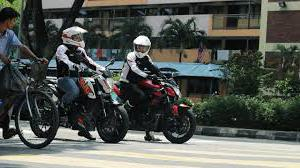motorcycle: (28, 57, 134, 142), (90, 67, 200, 147), (1, 51, 64, 153)
